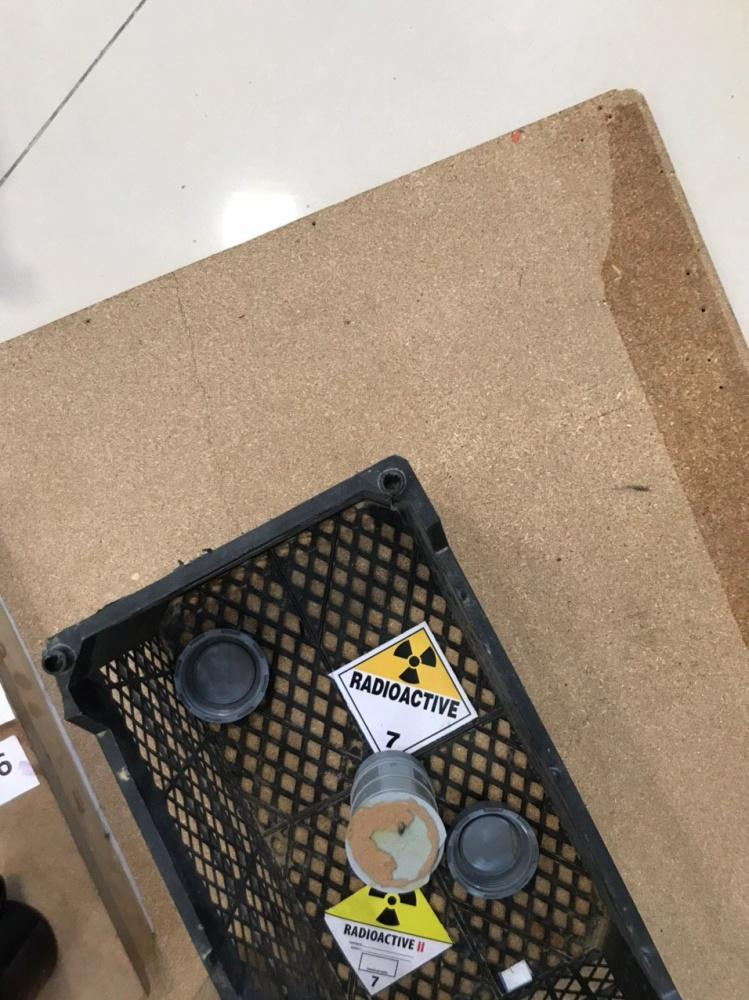radioactive: (329, 619, 476, 769), (322, 874, 451, 1000)
